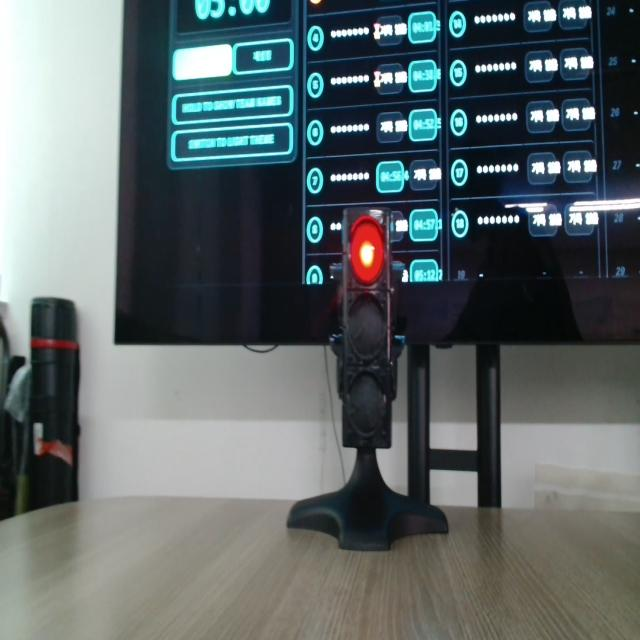red_light: (351, 216, 384, 285)
